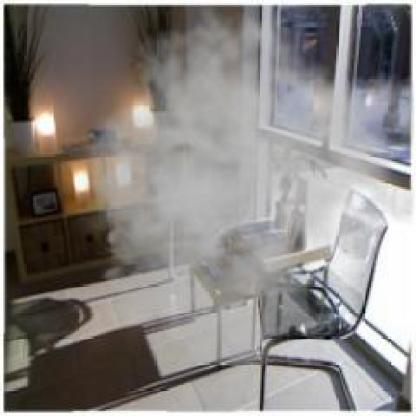Smoke: (54, 2, 414, 367)
